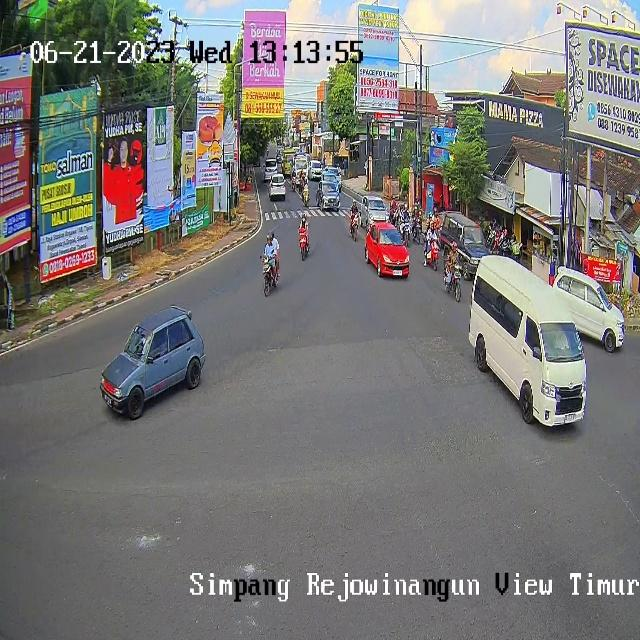bus: (444, 262, 462, 302), (262, 256, 278, 296), (424, 238, 438, 271), (298, 228, 310, 260), (402, 219, 412, 245), (351, 212, 359, 242), (416, 217, 421, 243), (302, 188, 310, 204), (394, 206, 399, 225), (292, 176, 296, 192)
car: (469, 255, 586, 428)
motorcycle: (101, 306, 205, 420), (549, 266, 626, 354), (440, 213, 490, 275), (365, 222, 410, 278), (360, 196, 390, 225), (316, 181, 341, 210), (270, 174, 286, 196), (321, 172, 341, 189), (264, 158, 278, 181), (308, 159, 324, 179)
